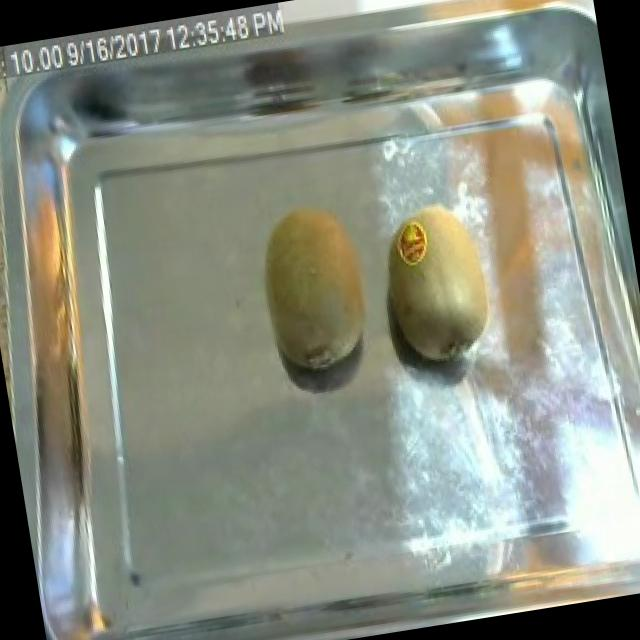Fruit: (238, 190, 393, 392), (364, 188, 512, 379)
